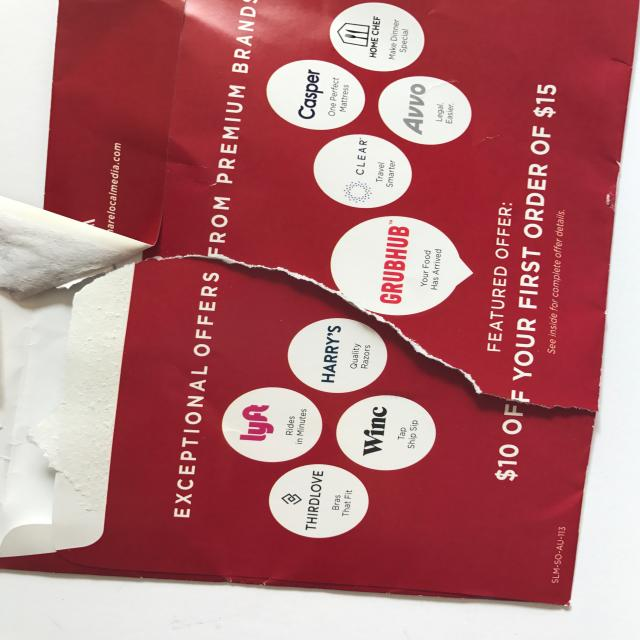paper: (0, 0, 635, 607)
